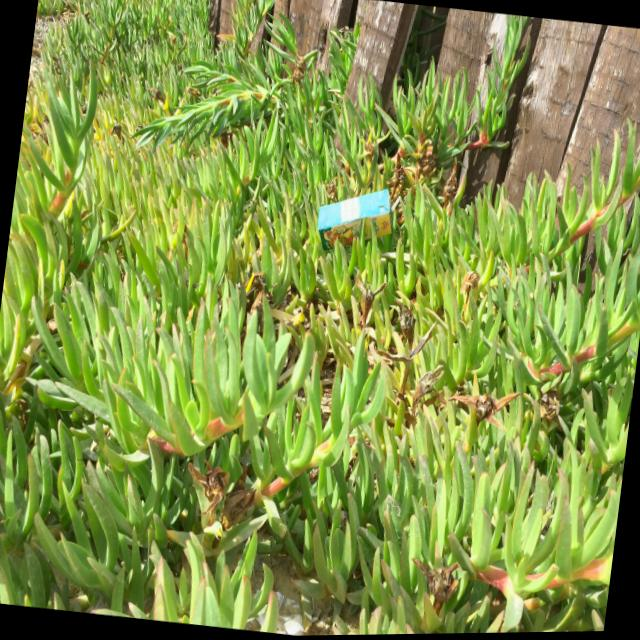Cardboard: (306, 174, 410, 272)
